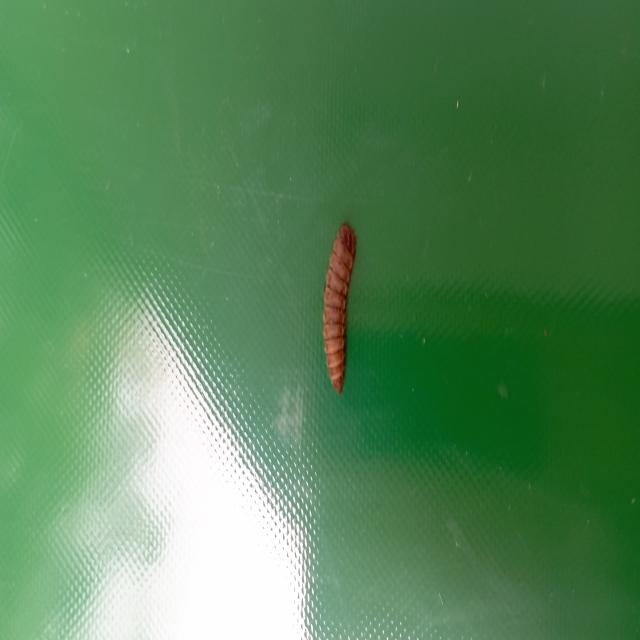Maggot: (323, 224, 358, 394)
